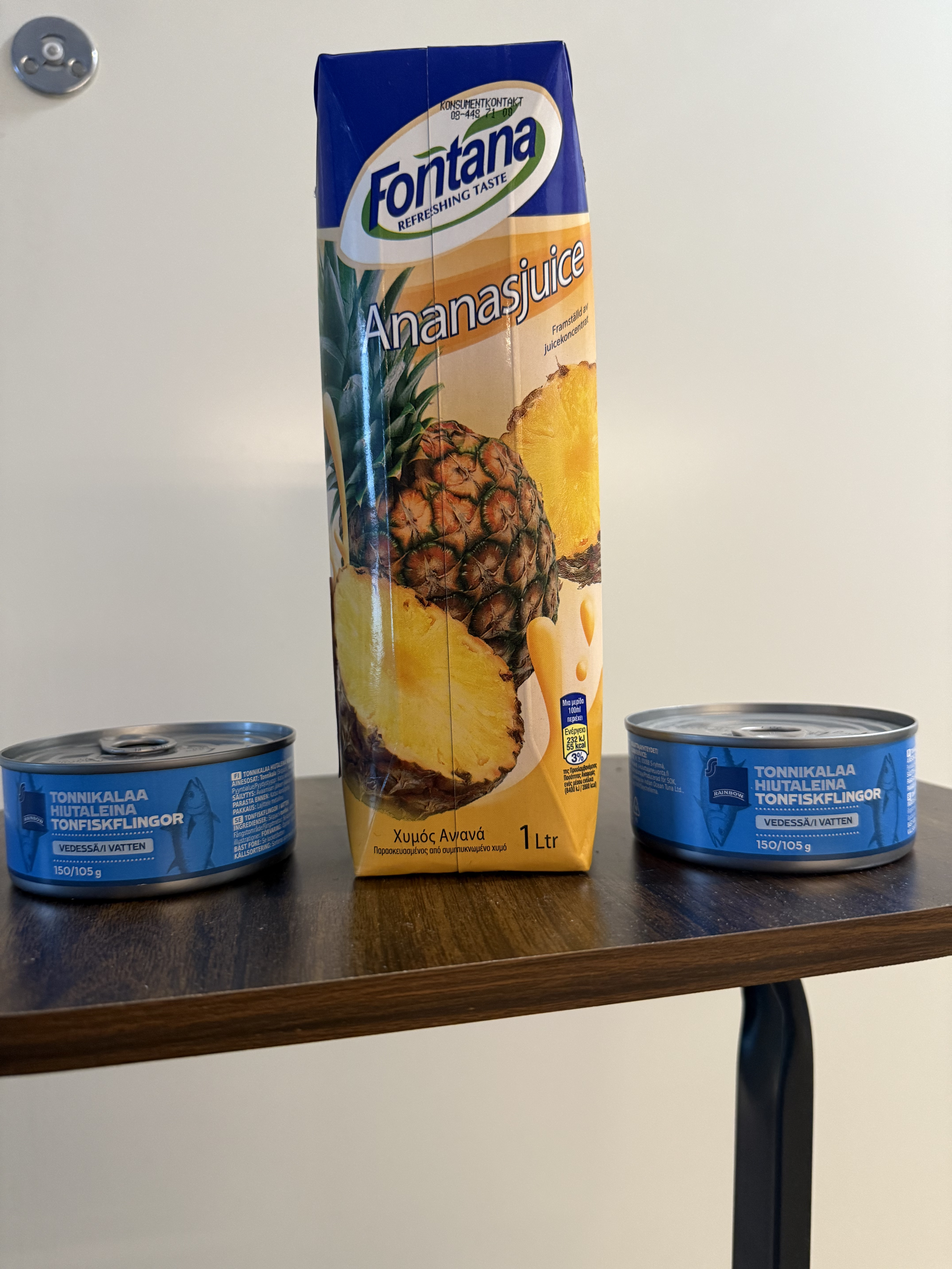Dryckeskartong: (311, 44, 602, 881)
Konservburk: (632, 704, 920, 872), (2, 726, 291, 879)
